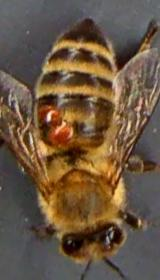varroa_mite: (46, 122, 79, 148), (44, 103, 66, 125)
